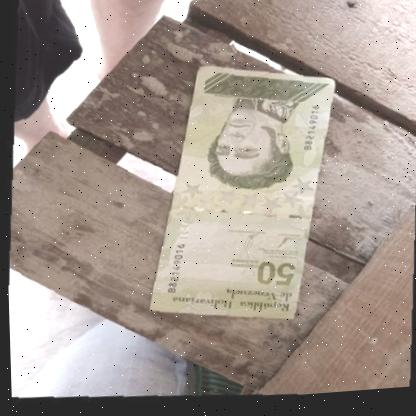fifty-front-vef: (141, 59, 341, 333)
